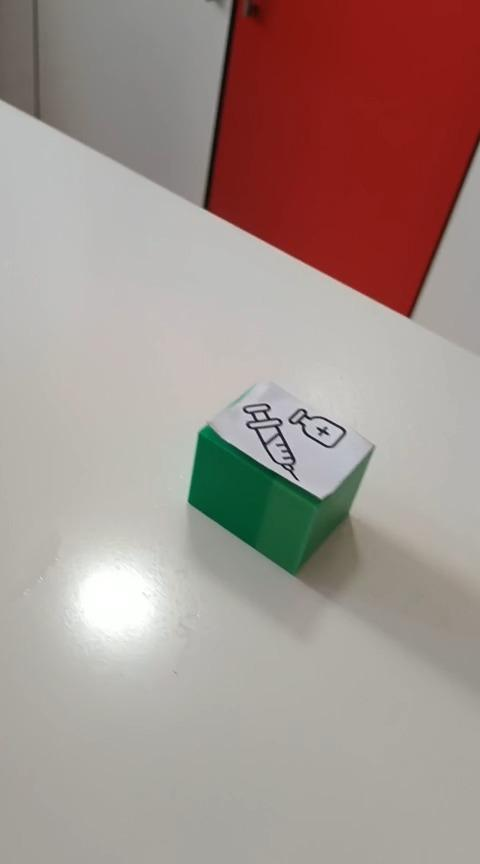antiseptic cream: (185, 378, 376, 576)
